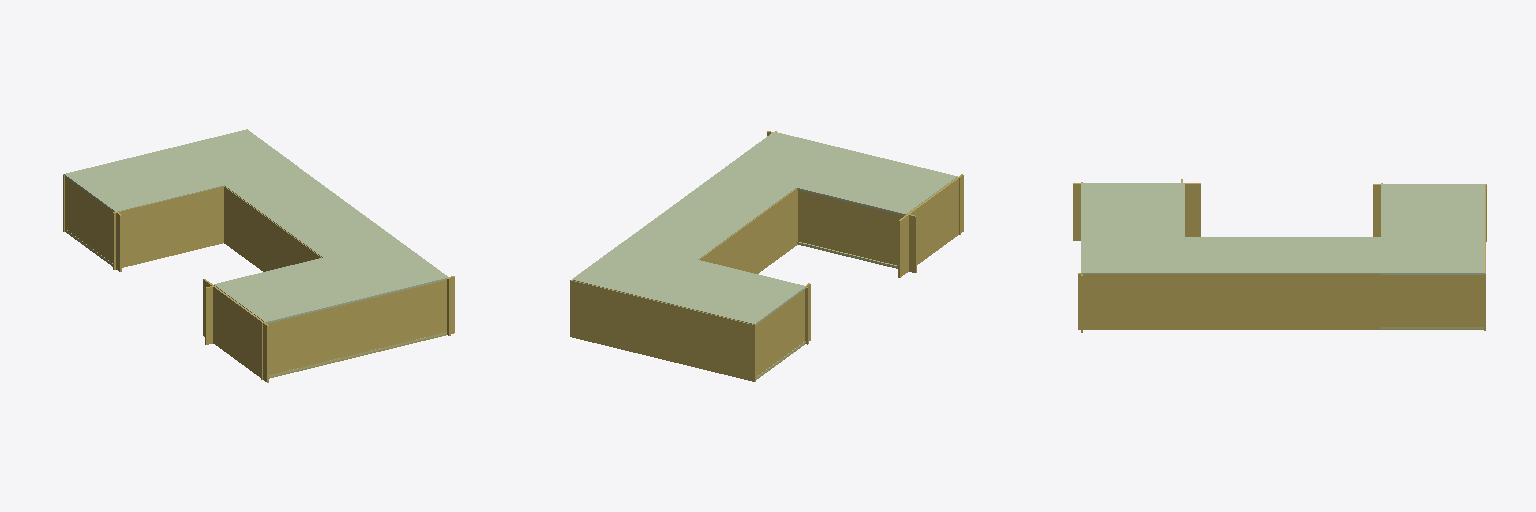
Rendered from school_hall.obj.
The picture shows the model from 3 angles: view 1: azimuth 30°, elevation 25°; view 2: azimuth 150°, elevation 25°; view 3: azimuth 270°, elevation 25°; orthographic projection.
Visible parts, largest first — view 1: Cube.011, Cube.008, Cube.012, Cube.013, Cube.007, Cube.003, Cube.010, Cube.006; view 2: Cube.005, Cube.012, Cube.011, Cube.013, Cube.009, Cube.003, Cube.010, Cube.006; view 3: Cube.004, Cube.011, Cube.012, Cube.013, Cube.010.
Part boxes in pixels (x1,y1,x2,y2): Cube.011: (225, 167, 447, 294); Cube.008: (261, 276, 454, 379); Cube.012: (64, 129, 297, 211); Cube.013: (214, 242, 448, 323); Cube.007: (113, 186, 223, 269); Cube.003: (224, 186, 321, 271); Cube.010: (203, 279, 268, 382); Cube.006: (65, 177, 121, 271); Cube.005: (570, 280, 755, 381); Cube.012: (572, 242, 806, 324); Cube.011: (624, 132, 845, 259); Cube.013: (723, 132, 957, 215); Cube.009: (798, 190, 916, 272); Cube.003: (699, 188, 797, 273); Cube.010: (898, 174, 963, 277); Cube.006: (752, 283, 810, 381); Cube.004: (1078, 273, 1483, 329); Cube.011: (1081, 237, 1380, 273); Cube.012: (1381, 184, 1484, 274); Cube.013: (1081, 183, 1184, 236); Cube.010: (1073, 183, 1200, 240).
Bounding box in the file's own units: 21.87 × 6.04 × 39.48.